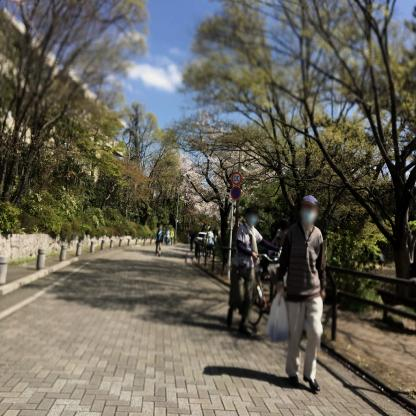Someiyoshino: (173, 125, 270, 223)
